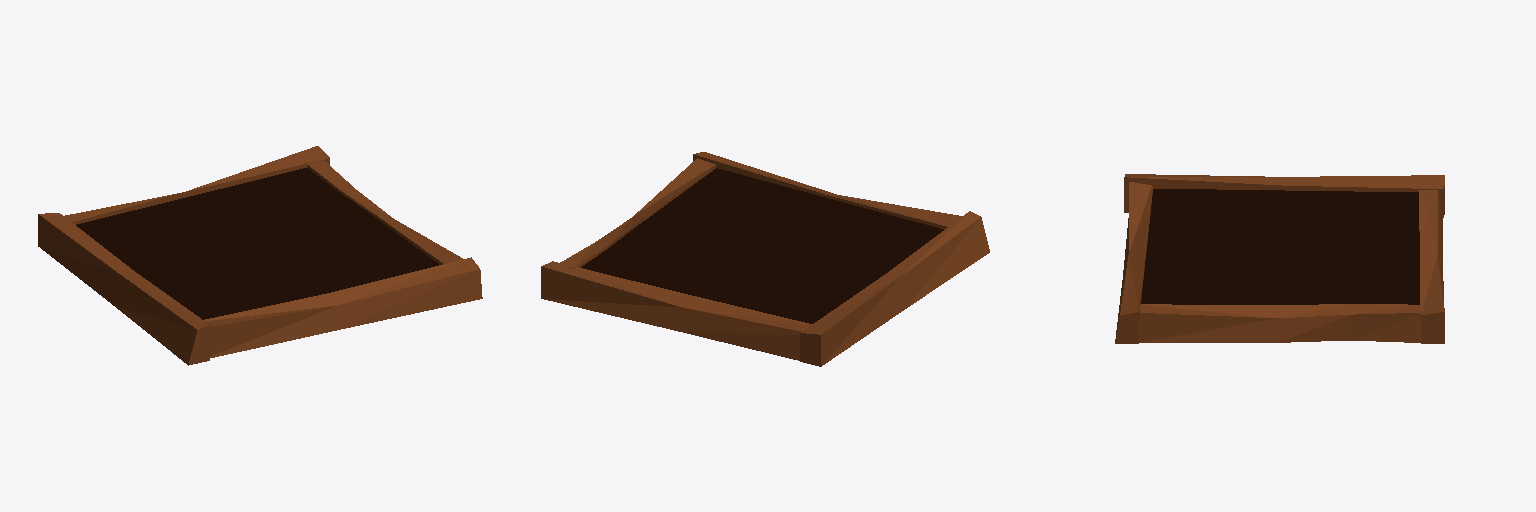
Rendered from beet.obj.
3 views of the same model, side by side, from view 1: azimuth 30°, elevation 25°; view 2: azimuth 150°, elevation 25°; view 3: azimuth 270°, elevation 25° (orthographic).
Parts seen in each view (by area): view 1: Box001, Box002; view 2: Box001, Box002; view 3: Box001, Box002.
Boxes of the visible parts, box(x1,y1,x2,y2) form: Box001: box(76, 168, 438, 319); Box002: box(38, 146, 482, 365); Box001: box(581, 168, 943, 323); Box002: box(541, 152, 989, 366); Box001: box(1141, 189, 1419, 304); Box002: box(1115, 174, 1444, 343).
Size of the model in its own units: 3.54 by 0.4276 by 3.49.